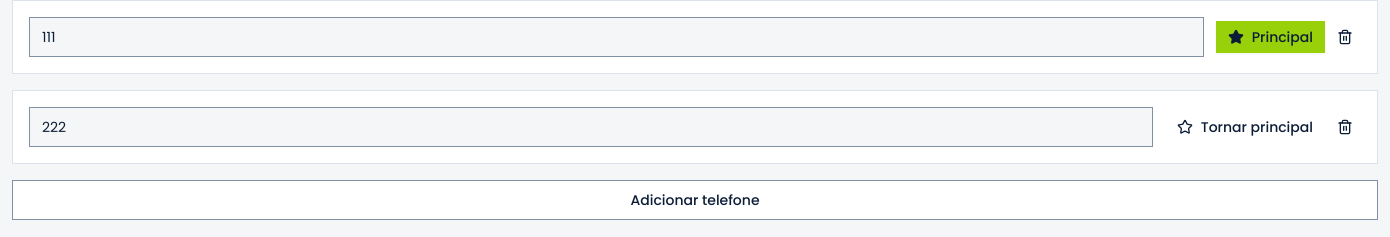
Scenario: RepeatableField › marcar um item como principal mostra "Principal" nele e "Tornar principal" no outro
expect the button "Principal" is shown: met, box [1216,21,1325,53]
What coordinates should you click on to do the following:
click the button "Tornar principal"
I would click on:
 (1245, 127)
Its box is [1165,111,1325,143].
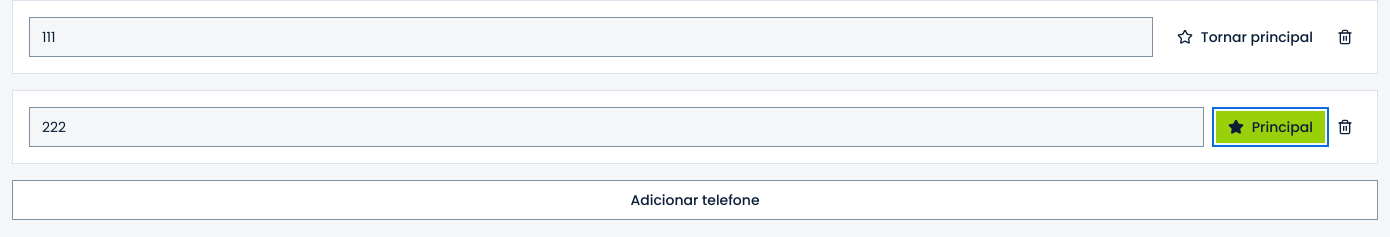
expect the number of buttons "Principal" is 1: met, box [1216,111,1325,143]
expect the button "Tornar principal" is shown: met, box [1165,21,1325,53]
